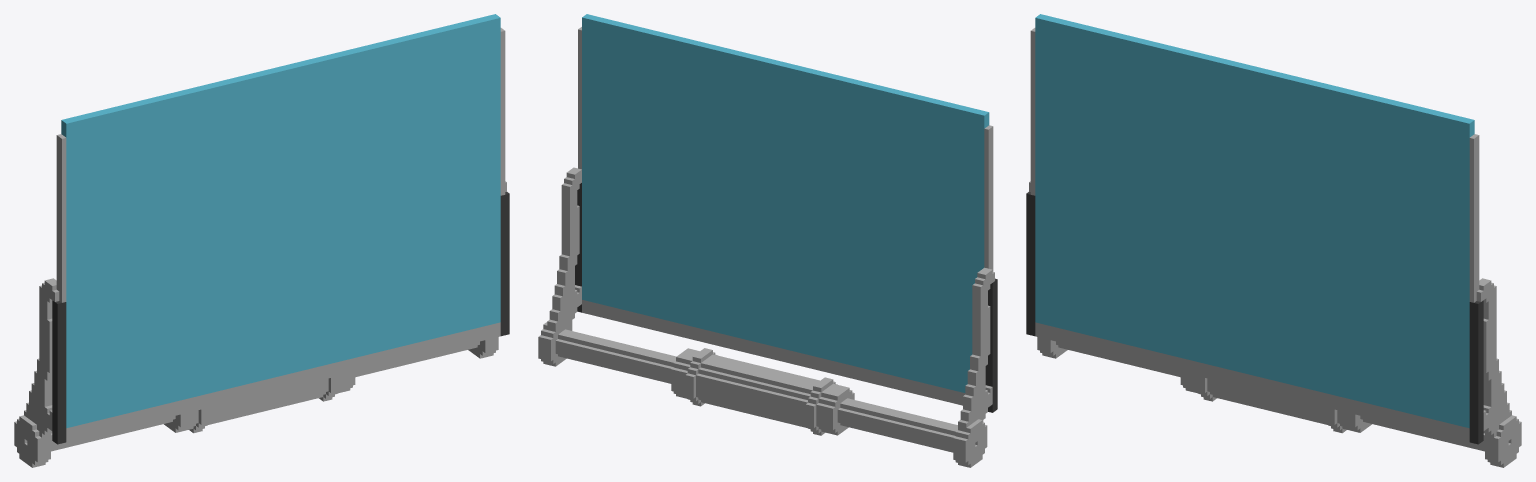
File: Monitor3.fbx
The picture shows the model from 3 angles, left to right: view 1: azimuth 30°, elevation 25°; view 2: azimuth 150°, elevation 25°; view 3: azimuth 330°, elevation 25°; orthographic projection. The views are drawn at different scales.
Visible parts, largest first — view 1: Monitor3, Monitor3.001; view 2: Monitor3, Monitor3.001; view 3: Monitor3, Monitor3.001.
Part boxes in pixels (box(x1,y1,x2,y2)): Monitor3: box(61, 14, 500, 428); Monitor3.001: box(14, 28, 509, 467); Monitor3: box(582, 14, 989, 392); Monitor3.001: box(538, 27, 997, 467); Monitor3: box(1035, 14, 1474, 428); Monitor3.001: box(1026, 28, 1521, 467).
Bounding box in the file's own units: 10.3 × 7.7 × 1.6.
